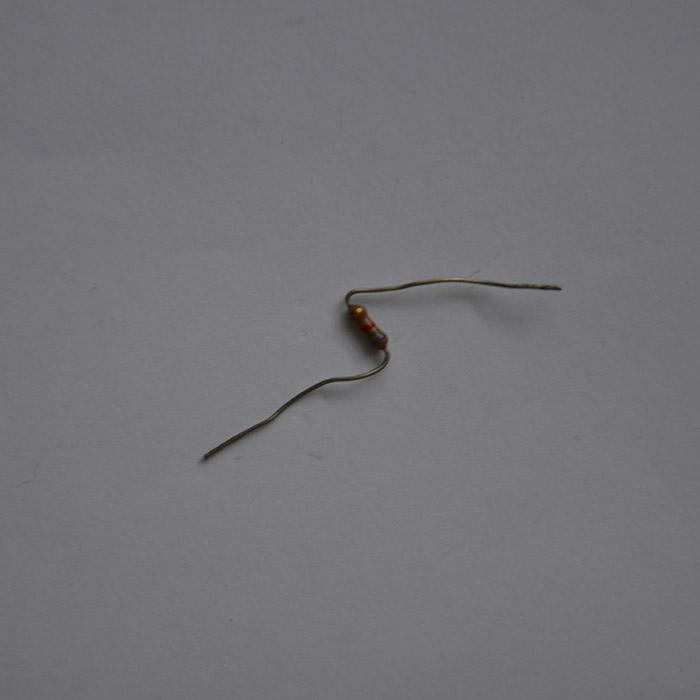resistor: (346, 301, 386, 349)
